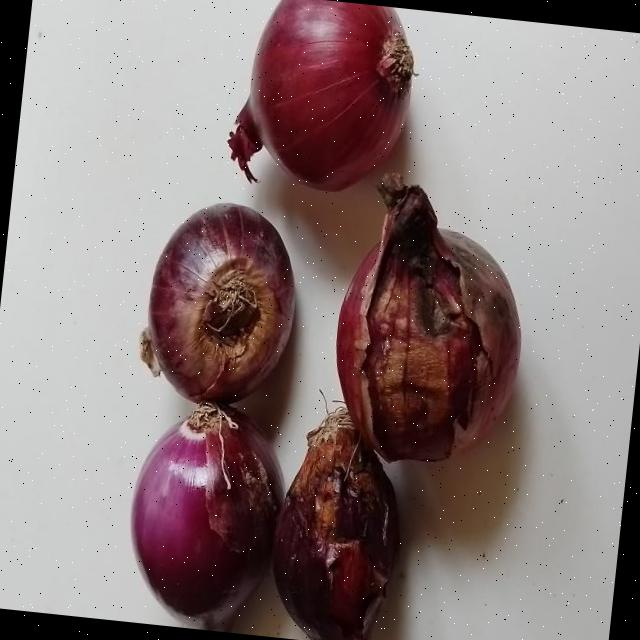Onion: (337, 172, 521, 460), (228, 0, 414, 189), (130, 403, 280, 631)
